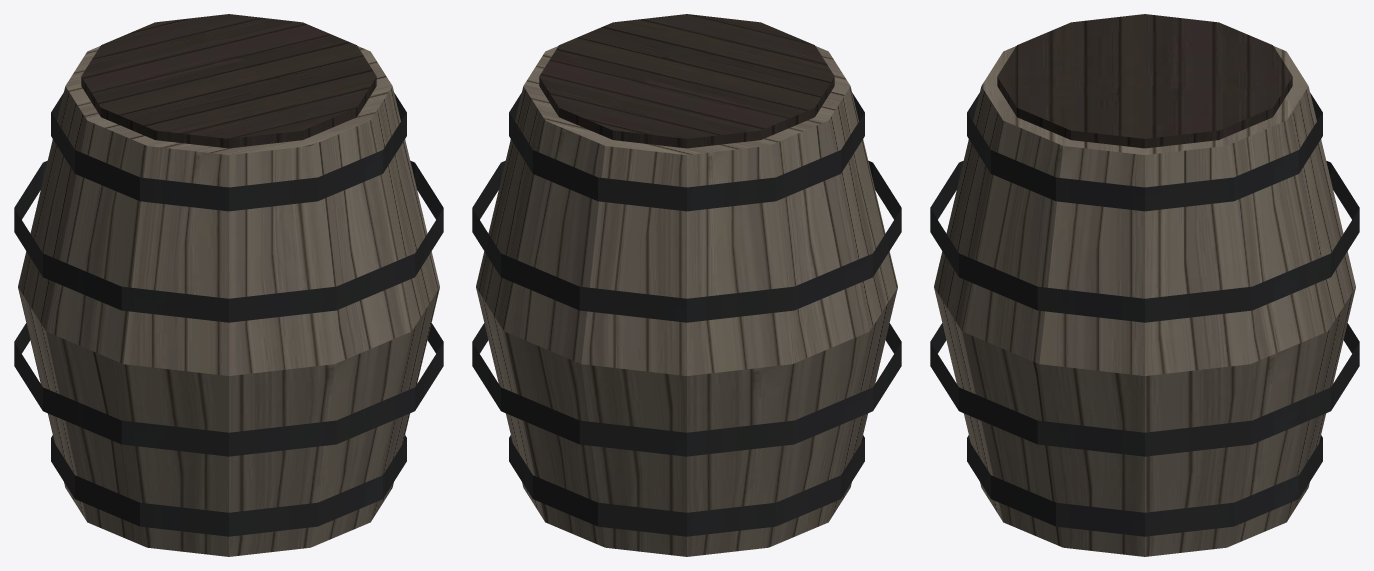
File: barrel_01.glb
3 renders of one model, left to right at view 1: azimuth 30°, elevation 25°; view 2: azimuth 150°, elevation 25°; view 3: azimuth 270°, elevation 25°, orthographic.
Visible parts, largest first — view 1: barrel_01; view 2: barrel_01; view 3: barrel_01.
Boxes of the visible parts, x1=… form: barrel_01: x1=14, y1=14, x2=443, y2=556; barrel_01: x1=472, y1=14, x2=901, y2=556; barrel_01: x1=930, y1=14, x2=1359, y2=556.
Size of the model in its own units: 0.814 by 0.86 by 0.814.
3 materials, 3 textured.
